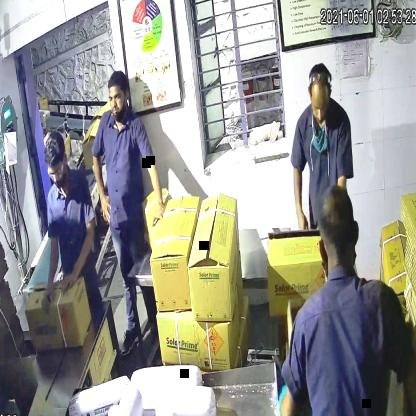goggles: (44, 159, 70, 186)
